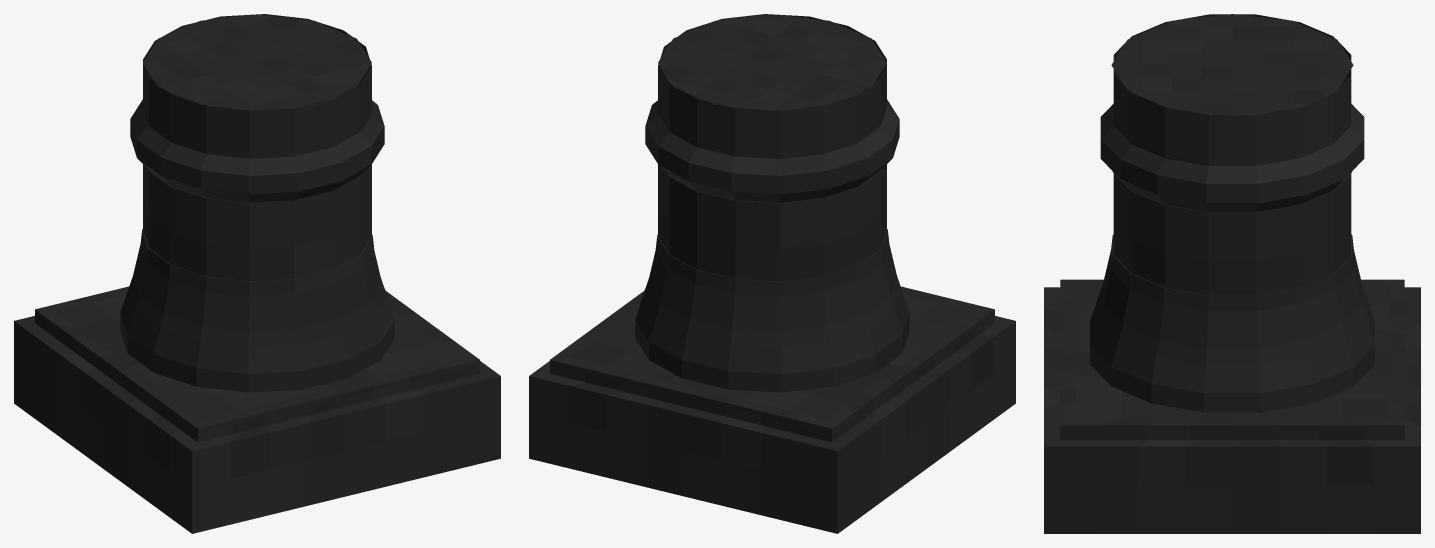
Rendered from decopole_laconcrete_inv.obj.
The picture shows the model from 3 angles, left to right: view 1: azimuth 30°, elevation 25°; view 2: azimuth 150°, elevation 25°; view 3: azimuth 270°, elevation 25°; orthographic projection. The views are drawn at different scales.
Visible parts, largest first — view 1: decopole_laconcrete_inv; view 2: decopole_laconcrete_inv; view 3: decopole_laconcrete_inv.
Boxes of the visible parts, x1,y1,x2,y2 form: decopole_laconcrete_inv: (14, 14, 500, 533); decopole_laconcrete_inv: (529, 14, 1015, 533); decopole_laconcrete_inv: (1044, 14, 1420, 533).
Size of the model in its own units: 0.875 by 1 by 0.875.
